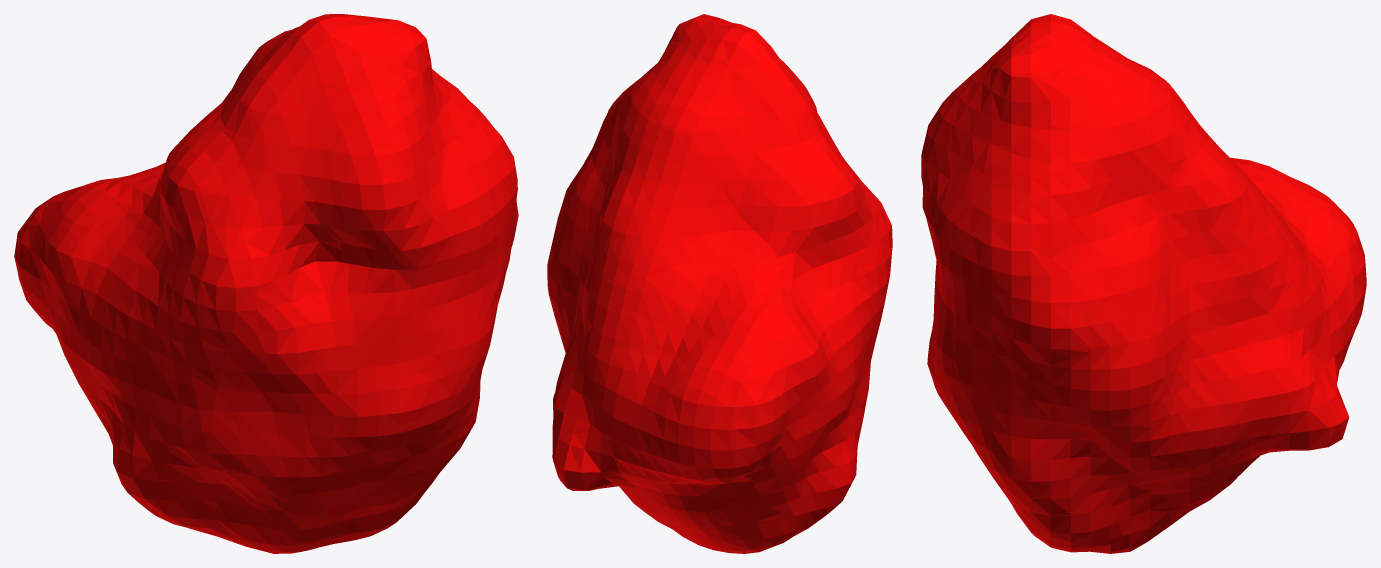
The model's file is dhaL_coarse.dae.
3 views of the same model, side by side, from view 1: azimuth 30°, elevation 25°; view 2: azimuth 150°, elevation 25°; view 3: azimuth 270°, elevation 25° (orthographic). The views are drawn at different scales.
Parts seen in each view (by area): view 1: dhaL; view 2: dhaL; view 3: dhaL.
Part boxes in pixels (<box>): dhaL: <box>14,14,518,553</box>; dhaL: <box>547,14,892,553</box>; dhaL: <box>921,14,1366,553</box>.
Size of the model in its own units: 39.34 by 56.01 by 42.86.
